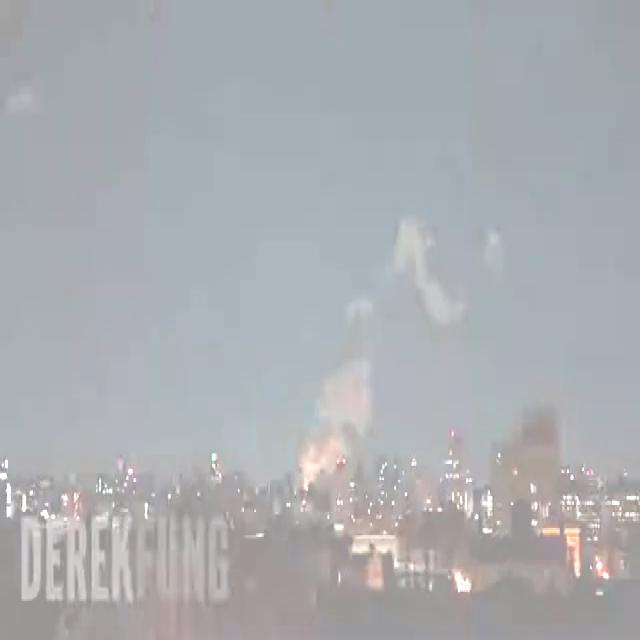smoke: (300, 316, 413, 466)
